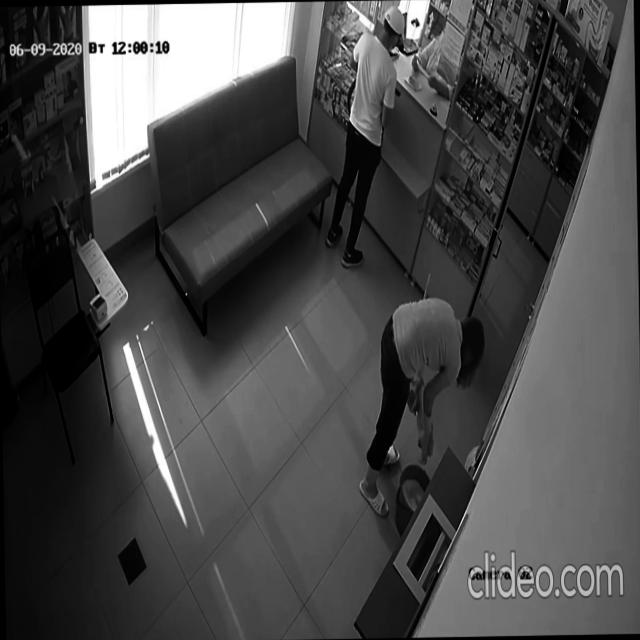person: (354, 296, 488, 521), (322, 6, 409, 269)
